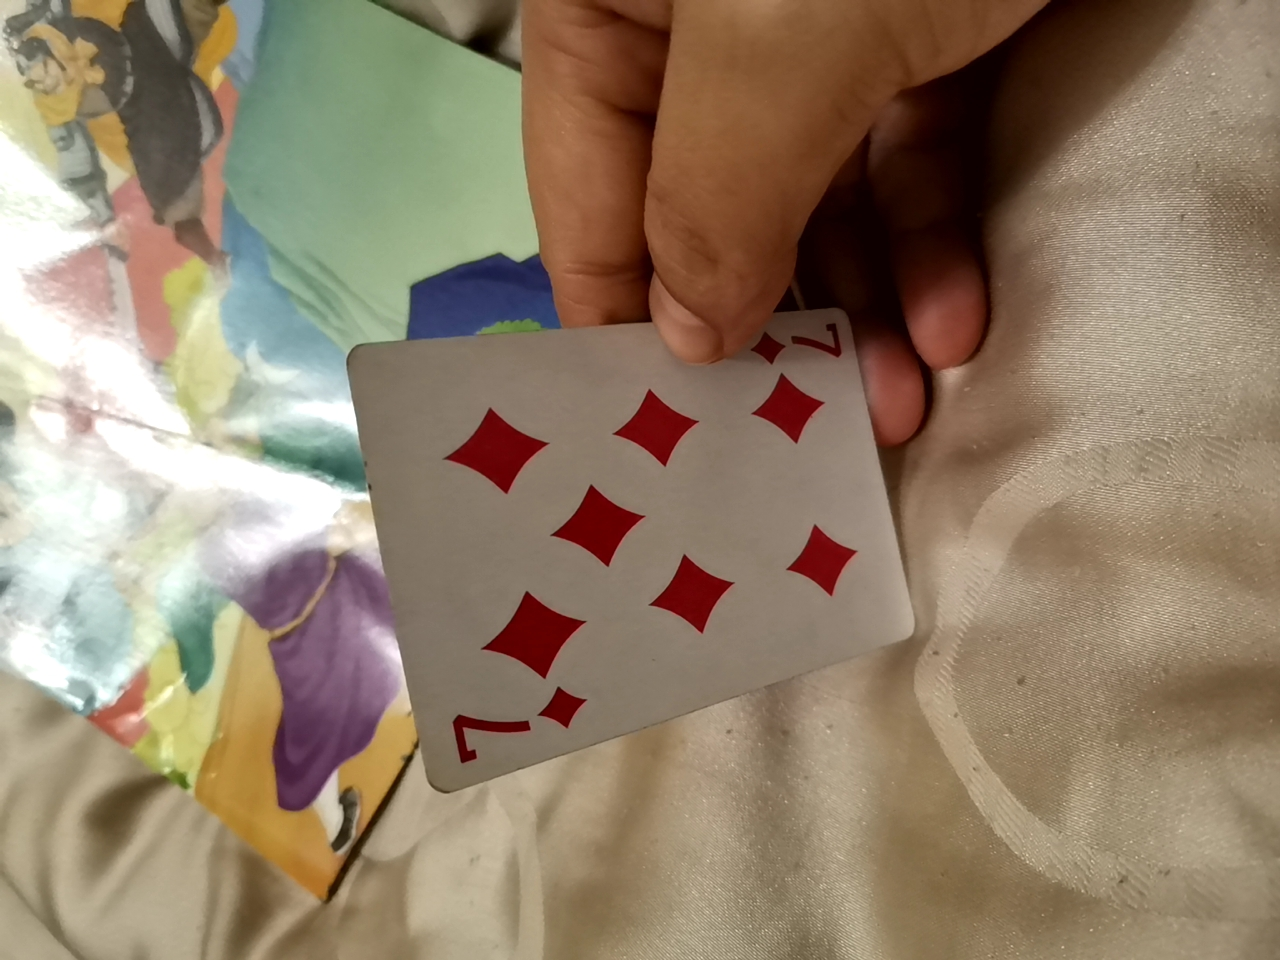fk 7: (403, 322, 911, 751)
